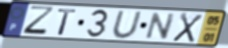3: (84, 8, 111, 39)
N: (143, 12, 178, 41)
T: (56, 8, 79, 36)
U: (111, 10, 144, 40)
X: (171, 12, 205, 44)
Z: (21, 5, 57, 37)
